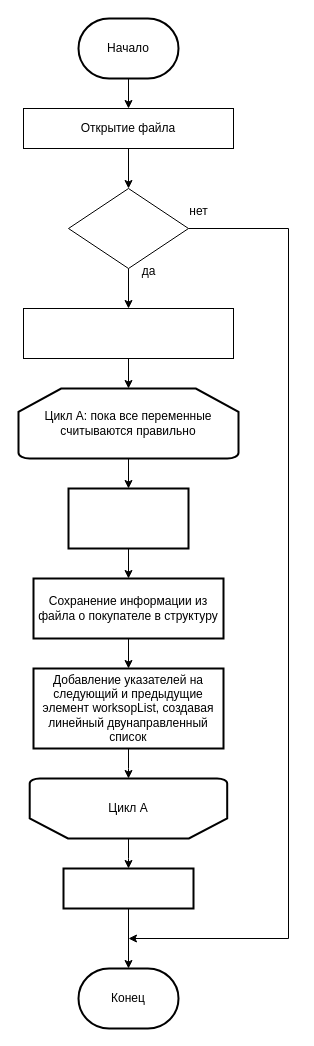
This 314x1046 diagram has some shape labels left out. The shapes that lost their labels are listed below. From the top down, each one's centre as x and y in pixels, then its label:
pixel 128 228: Открыт ли файл
pixel 128 333: Объявление переменных для ввода
pixel 128 518: Создание указателя на новый элемент workshopList
pixel 128 888: Закрытие файла
